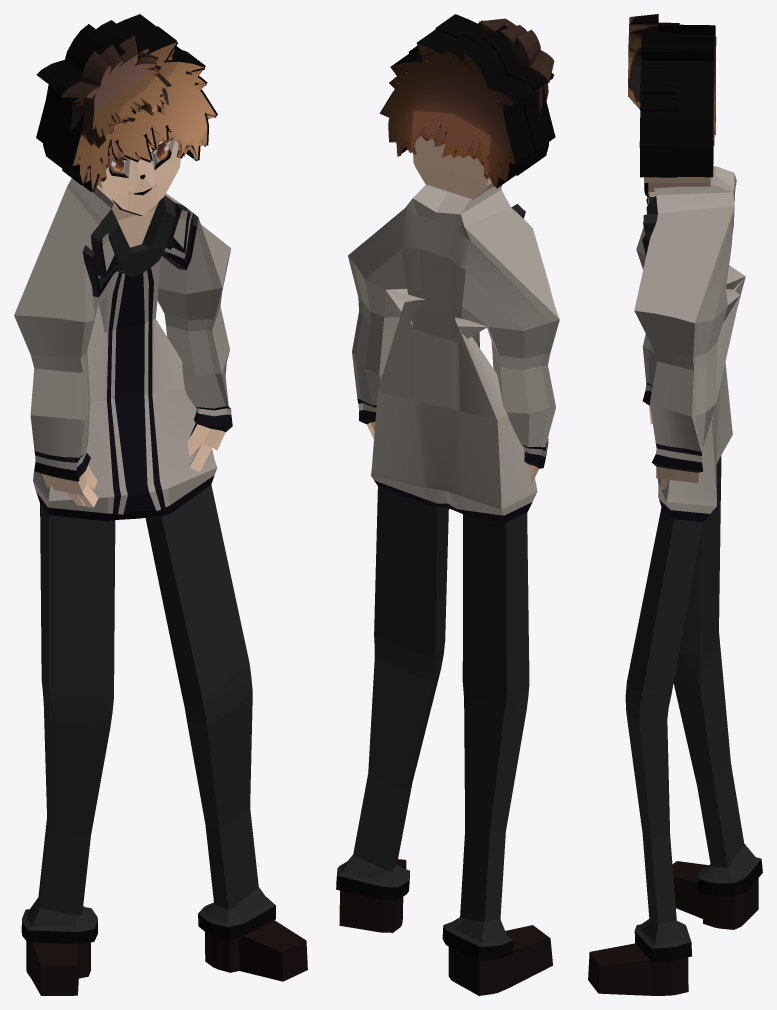
File: koratouAnim.obj
The picture shows the model from 3 angles, left to right: view 1: azimuth 30°, elevation 25°; view 2: azimuth 150°, elevation 25°; view 3: azimuth 270°, elevation 25°; orthographic projection. The views are drawn at different scales.
Parts seen in each view (by area): view 1: Cube, Hair1, Hair1.001, Face; view 2: Cube, Hair1, Face, Hair1.001; view 3: Cube, Hair1, Hair1.001, Face.
Part boxes in pixels (x1,y1,x2,y2): Cube: (14,178,307,995); Hair1: (36,14,217,191); Hair1.001: (61,35,171,148); Face: (97,138,180,215); Cube: (336,184,559,995); Hair1: (379,14,555,188); Face: (413,135,494,200); Hair1.001: (479,18,554,115); Cube: (588,166,762,995); Hair1: (639,22,716,177); Hair1.001: (628,14,658,109); Face: (644,176,711,196).
Bounding box in the file's own units: 1.31 × 4.89 × 0.8537.
